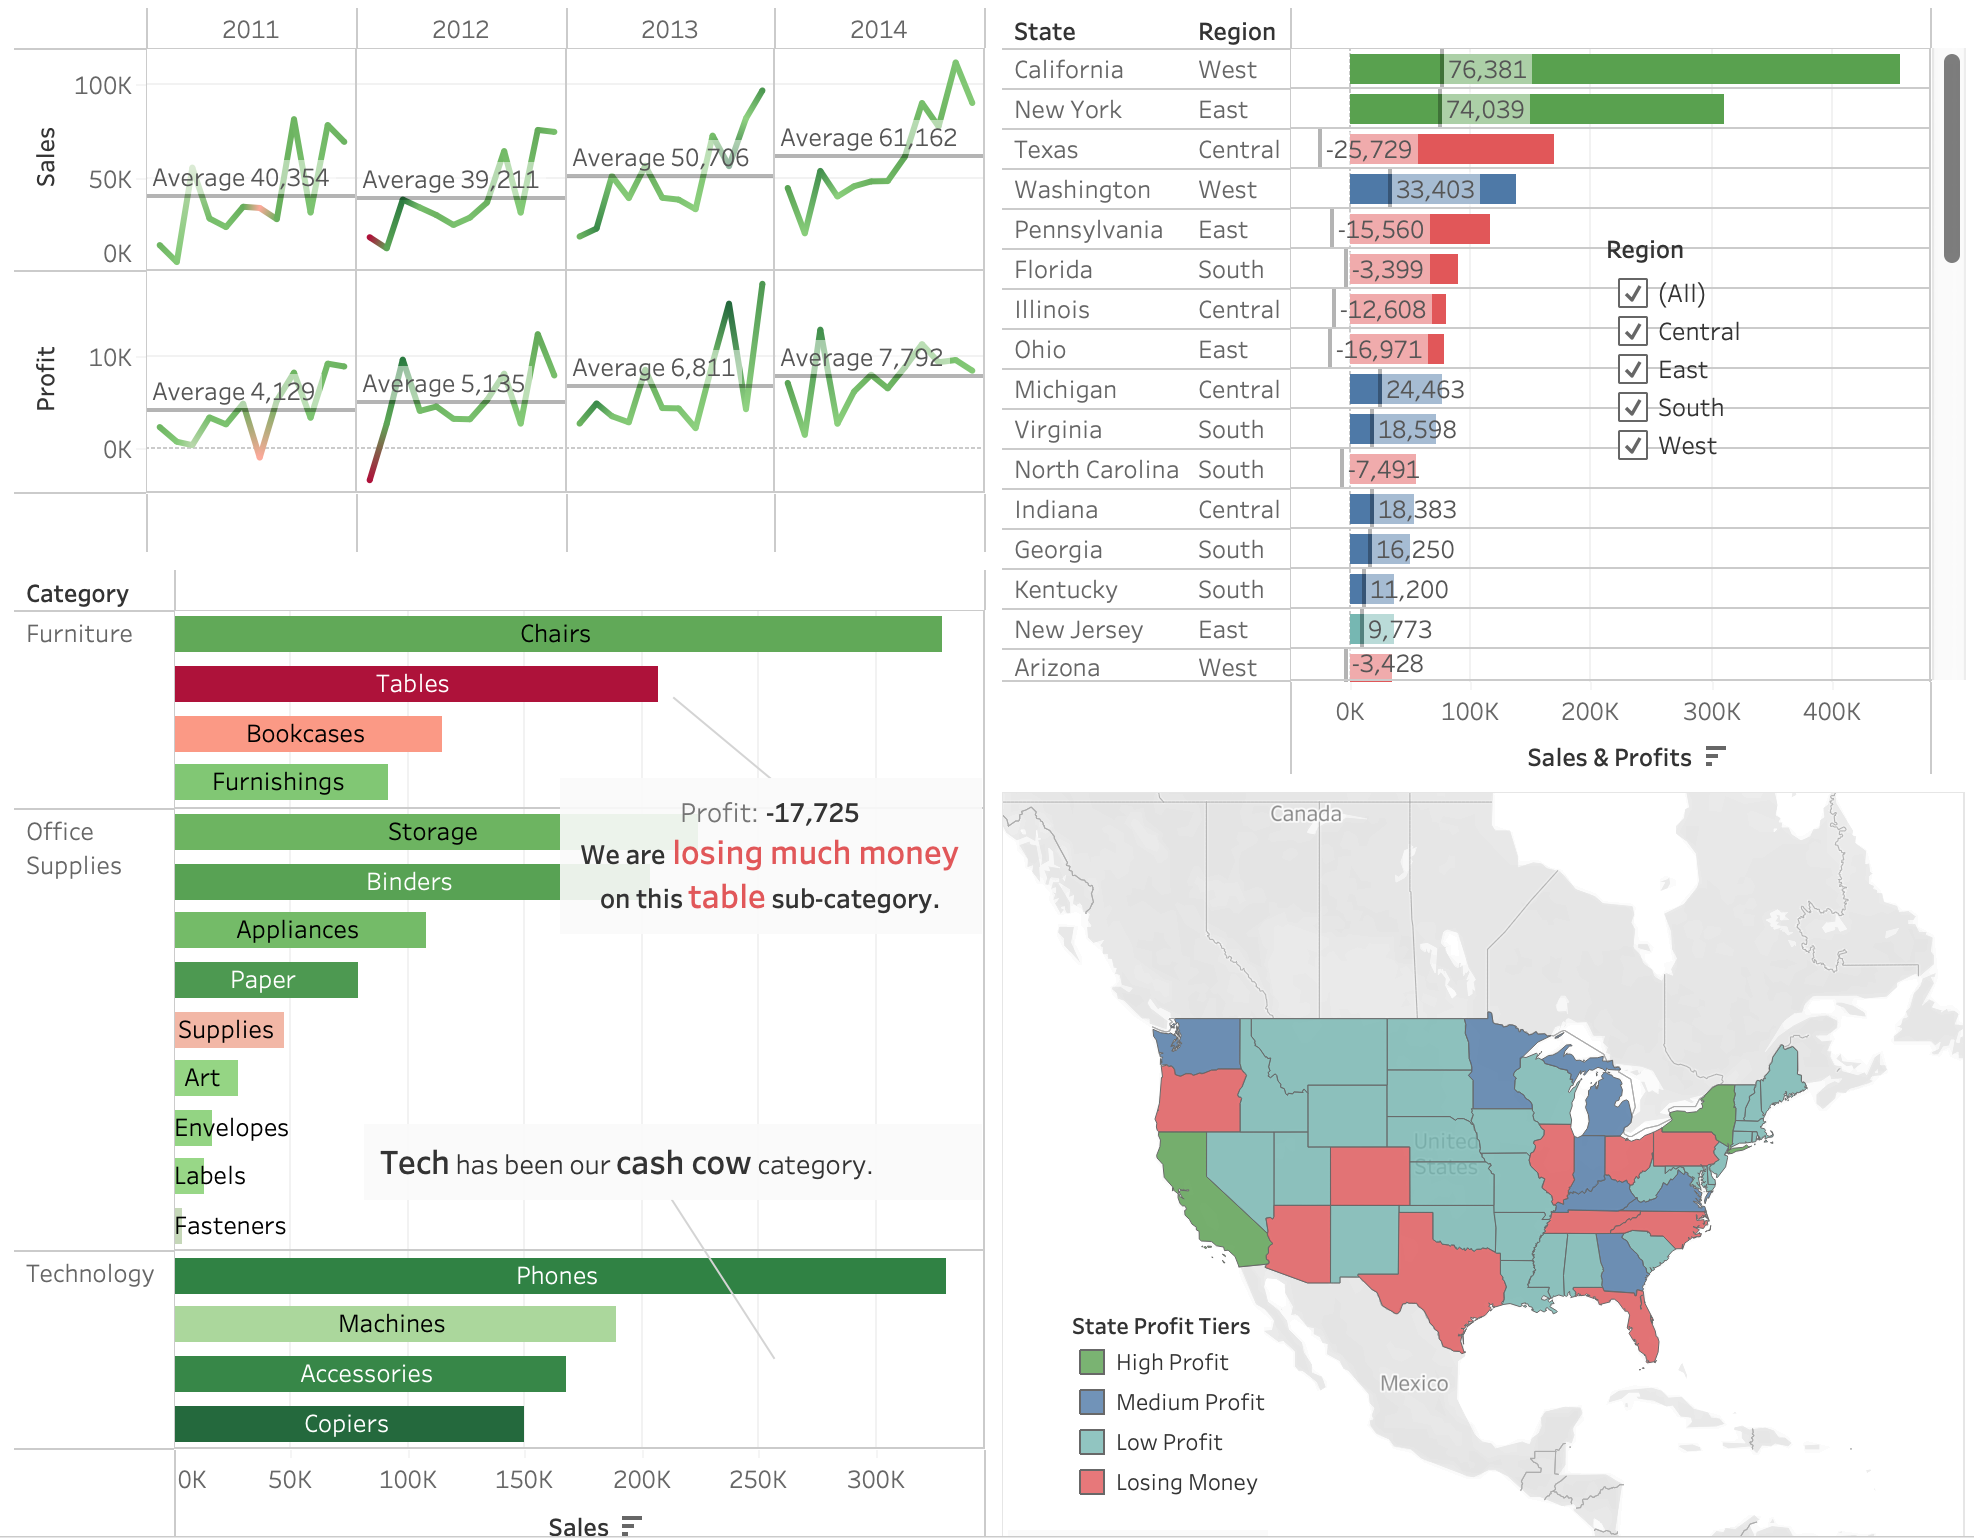

This screenshot's page, from the dashboard's own definition file:
{"tool":"tableau","page":{"name":"D1-Sales/Profit Overall","canvas":[1000,800],"ordinal":0},"visuals":[{"type":"worksheet","title":"Sales Trend by Month","mark":"Line","rows":["Sales","Profit"],"cols":["Order Date","Order Date"],"box":[8,8,493.6,281]},{"type":"worksheet","title":"Profit by Region","mark":"Automatic","rows":["State","Region"],"cols":["Sales"],"box":[501.6,8,490.4,392]},{"type":"filter","title":"Profit by Region","param":"[federated.1633xd80x2mbwx1bqp9gk1kevyoa].[none:Region:nk]","box":[808,124,168,127]},{"type":"worksheet","title":"Sales by Category","mark":"Automatic","rows":["Category","Sub-Category"],"cols":["Sales"],"box":[8,289,493.6,503]},{"type":"worksheet","title":"State Profit Tier","mark":"Automatic","box":[501.6,400,490.4,392]},{"type":"legend","title":"State Profit Tier","param":"[federated.1633xd80x2mbwx1bqp9gk1kevyoa].[usr:Calculation_1101341220060790784:nk","box":[541,663,140,96]}]}

Visuals, with their boxes in screenshot pixels (x1, y1, x2, y2), scaled from the page's 1000x800 canvas onto the 1974x1538 screenshot:
"Sales Trend by Month" worksheet (Line marks): (16, 15, 990, 556)
"Profit by Region" worksheet: (990, 15, 1958, 769)
"Profit by Region" filter: (1595, 238, 1927, 483)
"Sales by Category" worksheet: (16, 556, 990, 1523)
"State Profit Tier" worksheet: (990, 769, 1958, 1523)
"State Profit Tier" legend: (1068, 1275, 1344, 1459)
